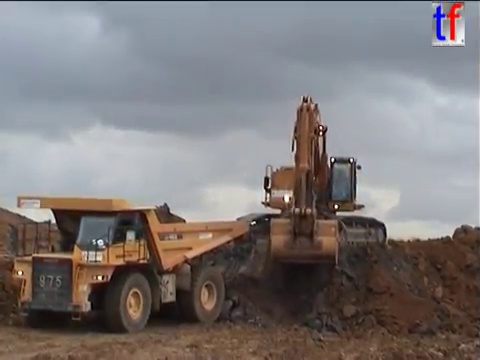excavator: (232, 92, 390, 267)
truck: (5, 193, 251, 335)
